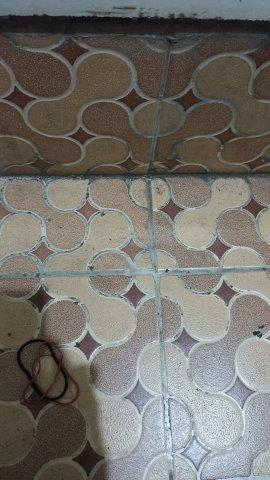karet: (18, 339, 80, 406)
